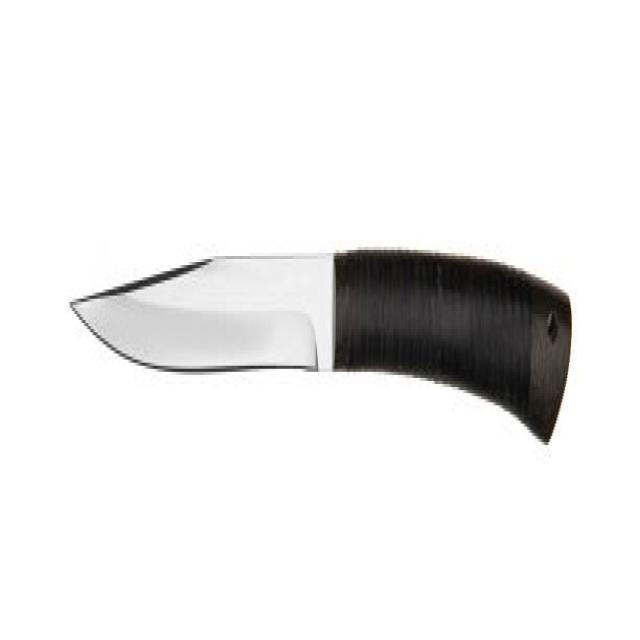knife: (68, 249, 575, 450)
